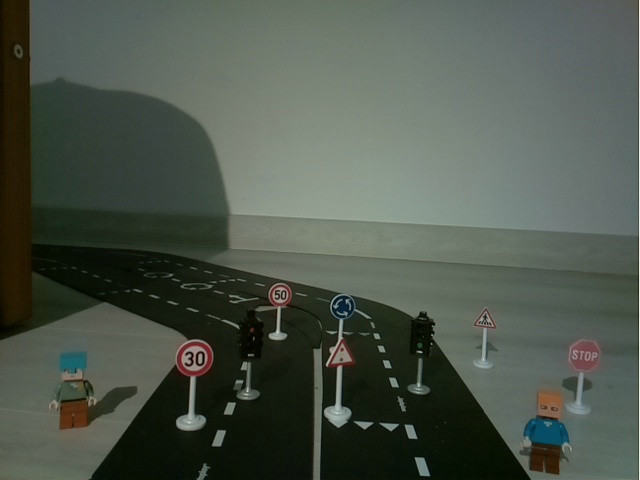green light: (406, 307, 438, 400)
limit 30: (171, 337, 216, 437)
limit 50: (265, 280, 298, 343)
pedestrian sign: (470, 303, 501, 370)
person: (517, 384, 575, 475)
red light: (236, 312, 262, 405)
round: (327, 288, 359, 337)
second person: (45, 348, 102, 435)
stop: (568, 335, 604, 418)
traffic light sign: (327, 340, 354, 422)
